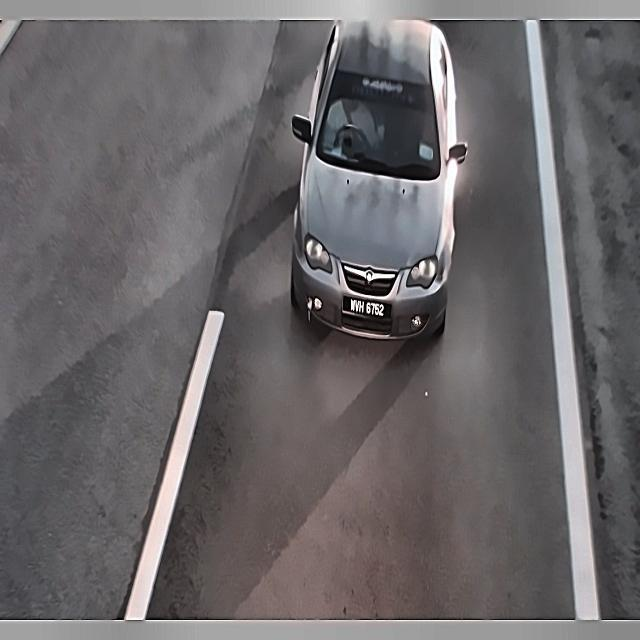car: (343, 296, 393, 327)
